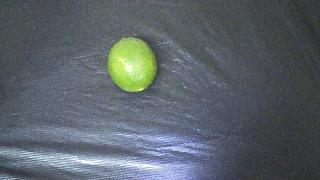LOCAL: (108, 37, 157, 92)
